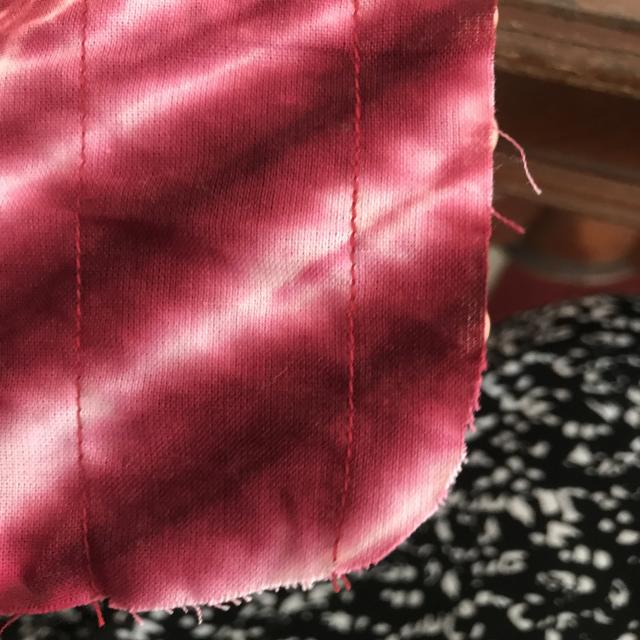good: (55, 230, 113, 354)
